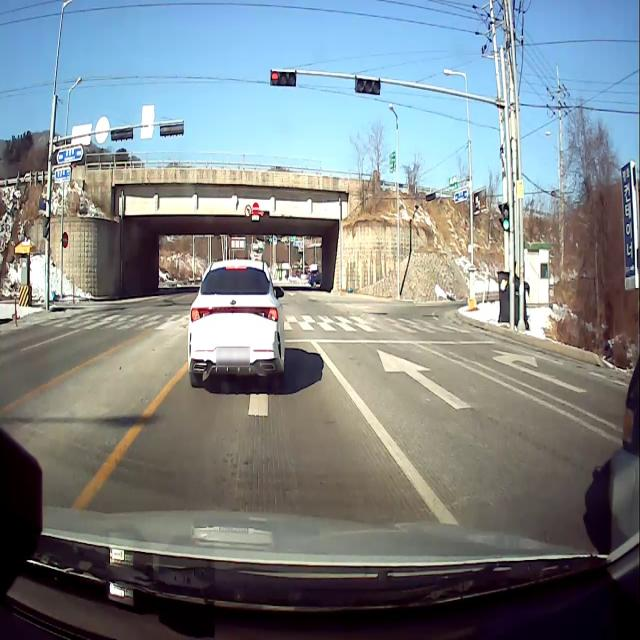Red Light: (271, 71, 279, 85)
